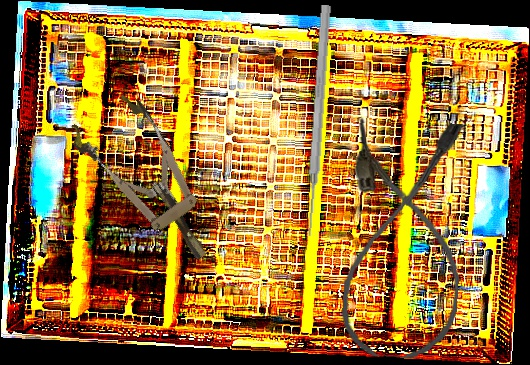Cannula: (339, 116, 470, 362)
Pusher: (301, 4, 334, 237)
Speculum: (64, 85, 234, 281)
